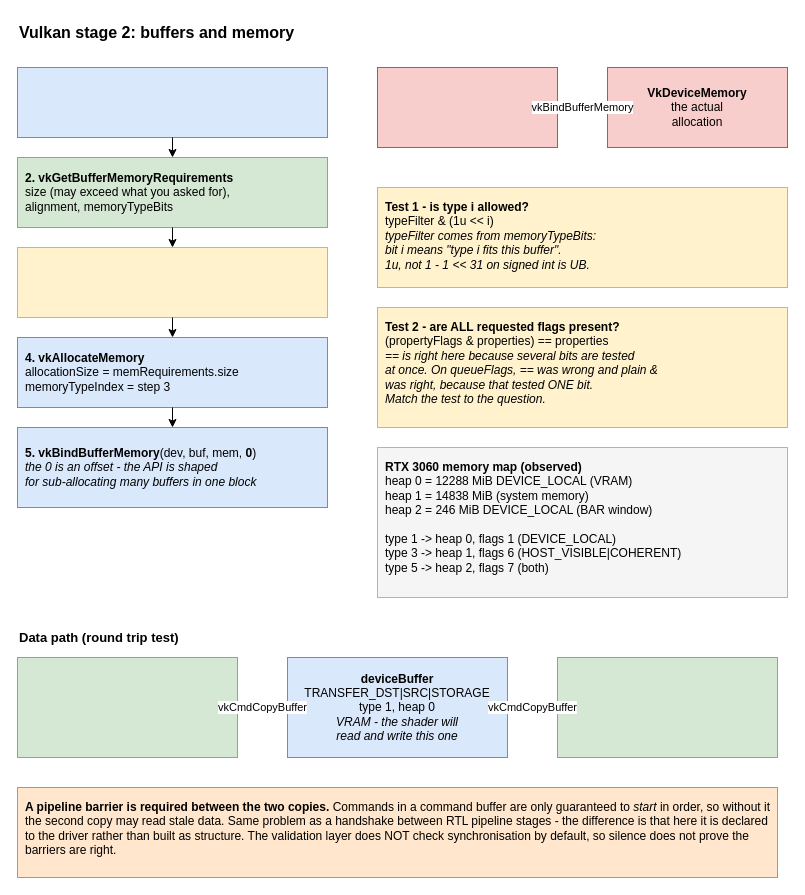
Some shapes in this 805 by 895 pixel diagram are drawn without their labels. The centre of each missing label's shape, as x and y in pixels:
1. vkCreateBuffer VkBufferCreateInfo: size, usage, sharingMode = EXCLUSIVE: point (172, 102)
3. findMemoryType (memoryTypeBits, properties) two bit tests -> a type index: point (172, 282)
stagingIn TRANSFER_SRC type 3, heap 1 system memory filled via vkMapMemory: point (127, 707)
stagingOut TRANSFER_DST type 3, heap 1 system memory read back and compared: point (667, 707)
VkBuffer a description: size + usage zero bytes of storage: point (467, 107)
